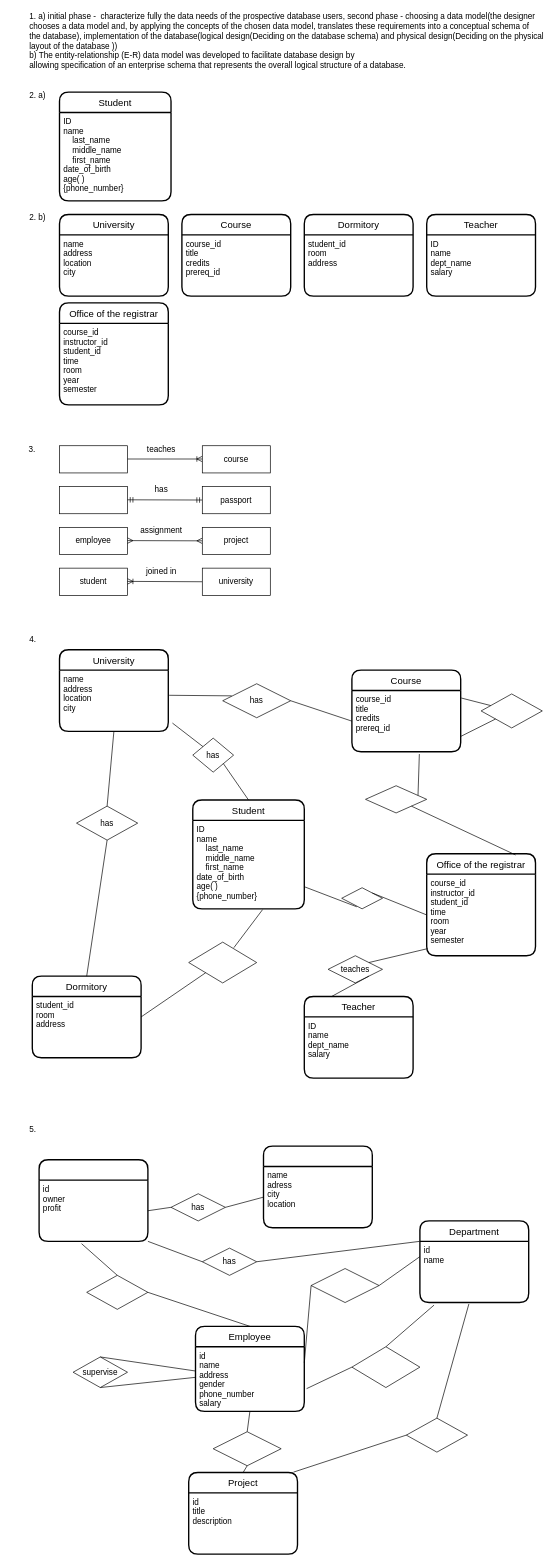
This 556x1566 diagram has some shape labels left out. Here are the shapes that lost their labels. From the top down, the box of each, then its label:
(59, 445, 128, 473): instructor
(59, 486, 128, 514): person
(480, 693, 542, 728): prereq
(365, 785, 427, 813): is offered
(341, 887, 382, 909): enrols
(188, 941, 257, 983): occupies
(38, 1159, 148, 1242): Company
(262, 1145, 373, 1228): Branch_office
(86, 1275, 148, 1309): employs
(310, 1268, 379, 1303): works in
(351, 1346, 420, 1388): manages
(213, 1431, 281, 1466): works on
(406, 1417, 468, 1452): controls
